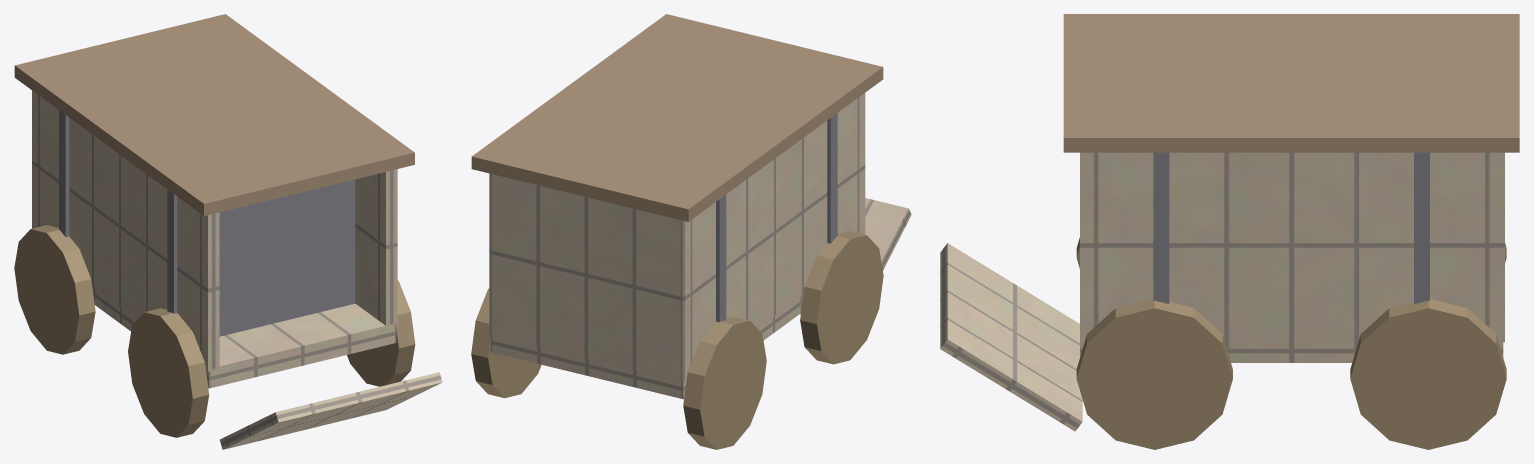
File: cart.glb
3 views of the same model, side by side, from view 1: azimuth 30°, elevation 25°; view 2: azimuth 150°, elevation 25°; view 3: azimuth 270°, elevation 25° (orthographic). The views are drawn at different scales.
Parts seen in each view (by area): view 1: cart roof, cart left, cart band 1, cart bed, cart wheel 1, cart wheel 3, cart right, cart ramp, cart wheel 2, cart band 2; view 2: cart roof, cart back, cart left, cart wheel 3, cart wheel 1, cart bed, cart wheel 4, cart ramp, cart band 1, cart band 2; view 3: cart right, cart roof, cart wheel 2, cart wheel 4, cart ramp, cart bed, cart band 1, cart band 2.
Boxes of the visible parts, x1,y1,x2,y2 form: cart roof: (14,14,414,216); cart left: (32,90,219,371); cart band 1: (167,179,355,336); cart bed: (92,287,396,388); cart wheel 1: (128,308,209,437); cart wheel 3: (14,225,95,354); cart right: (355,169,397,325); cart ramp: (220,372,442,449); cart wheel 2: (347,280,415,386); cart band 2: (59,110,69,236); cart roof: (471,14,883,221); cart back: (490,173,683,381); cart left: (683,93,865,381); cart wheel 3: (683,316,766,449); cart wheel 1: (800,231,883,364); cart bed: (490,295,803,399); cart wheel 4: (471,288,541,398); cart ramp: (800,198,911,314); cart band 1: (827,113,837,243); cart band 2: (716,194,726,322); cart right: (1080,152,1503,342); cart roof: (1063,14,1519,152); cart wheel 2: (1076,299,1232,449); cart wheel 4: (1350,299,1506,449); cart ramp: (940,243,1082,431); cart bed: (1080,343,1503,362); cart band 1: (1153,152,1169,303); cart band 2: (1414,152,1429,303).
Size of the model in its own units: 0.95 by 1.04 by 1.78.
8 materials, 1 textured.
